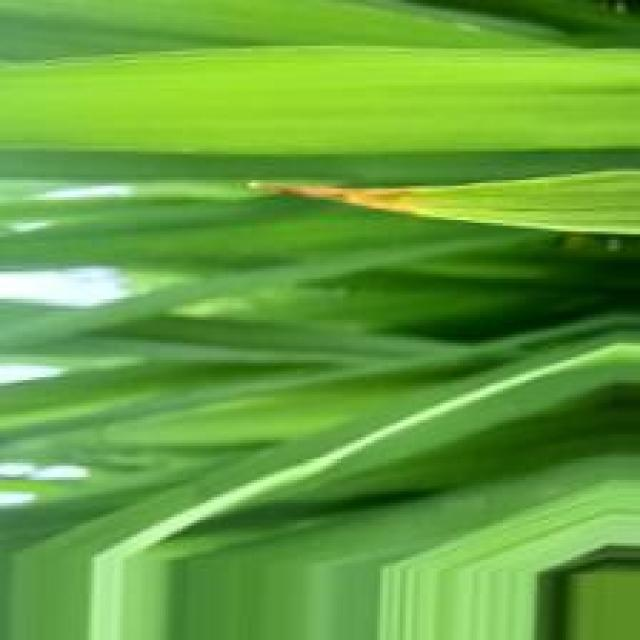HealthyLeaf: (98, 48, 637, 149)
